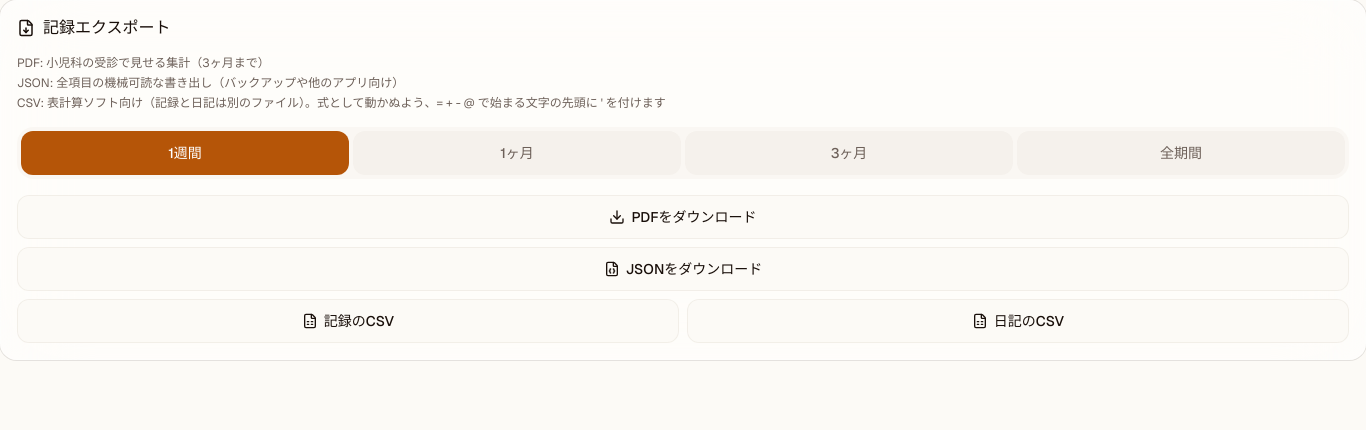
Scenario: ExportCard: 取消し・期限（待ち続けさせぬ） › ⭐ 取消しボタンで取り消し、「取り消した」と伝え（失敗とは言わぬ）、何も保存せぬ
Click the button "JSONをダウンロード".
click(683, 269)  # box x1=17 y1=247 x2=1349 y2=291
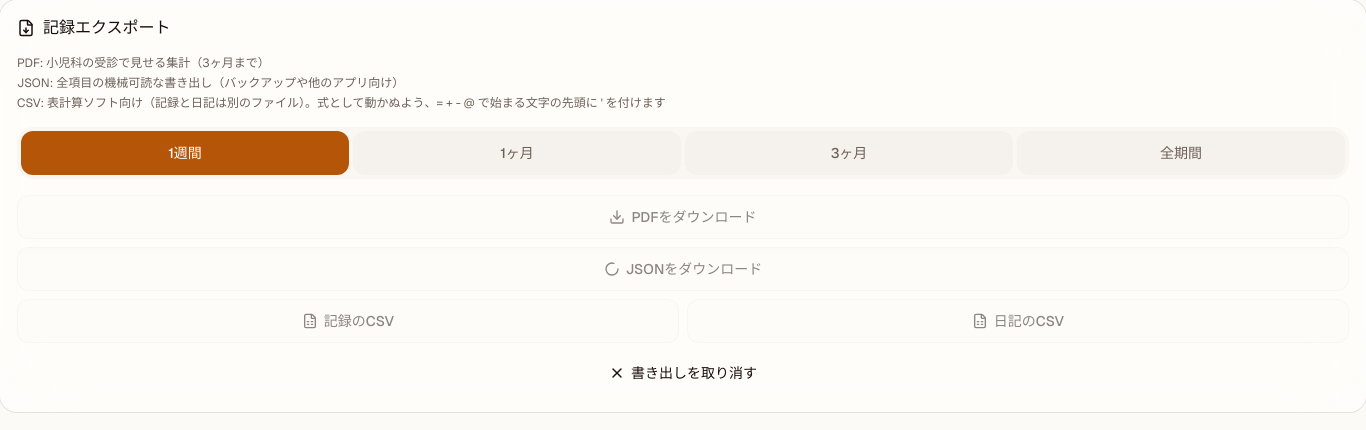
Click the button "書き出しを取り消す".
click(683, 373)  # box x1=17 y1=351 x2=1349 y2=395
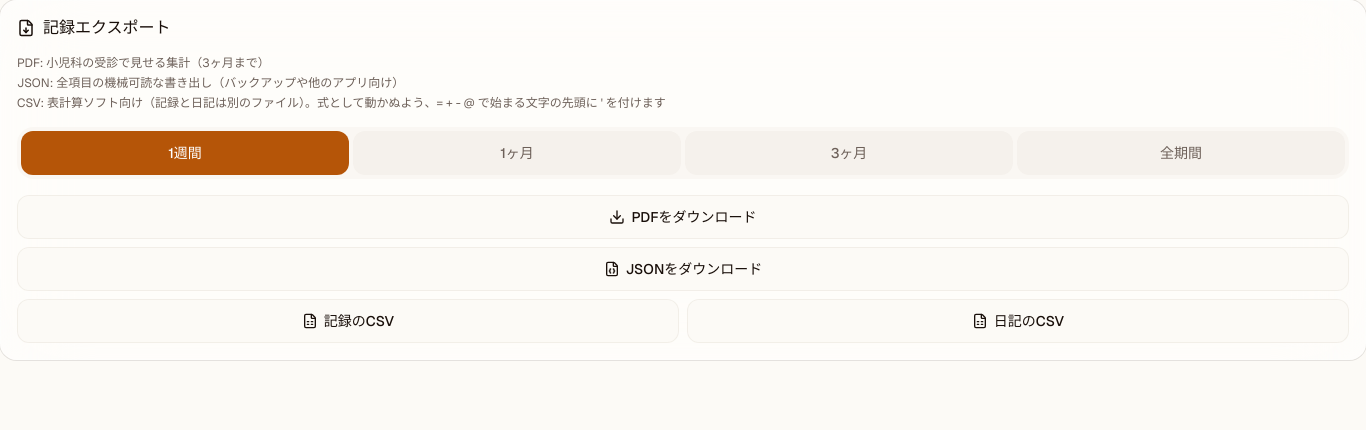
Result: the button "JSONをダウンロード" is enabled at x1=17 y1=247 x2=1349 y2=291
